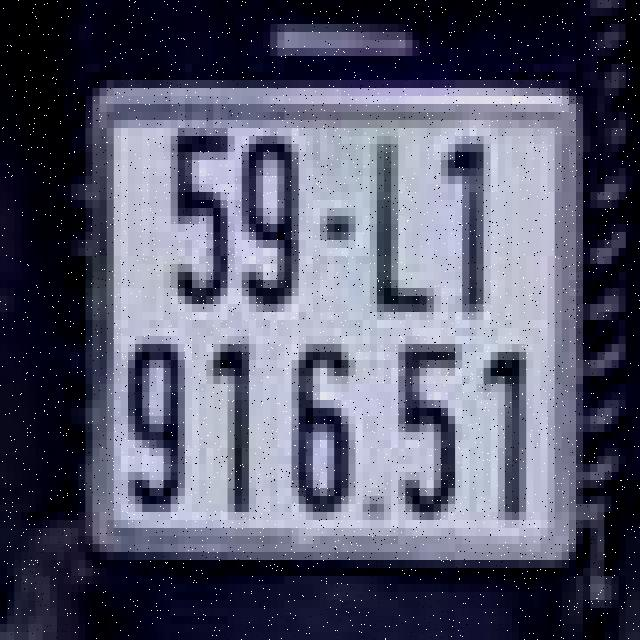1: (473, 340, 551, 524), (438, 112, 502, 328), (206, 340, 263, 532)
5: (149, 120, 242, 320), (388, 324, 466, 524)
6: (277, 336, 363, 528)
9: (103, 320, 189, 520), (234, 128, 306, 320)
L: (356, 124, 434, 316)
